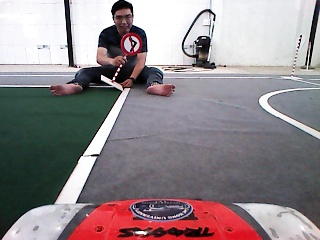ban: (120, 31, 143, 56)
